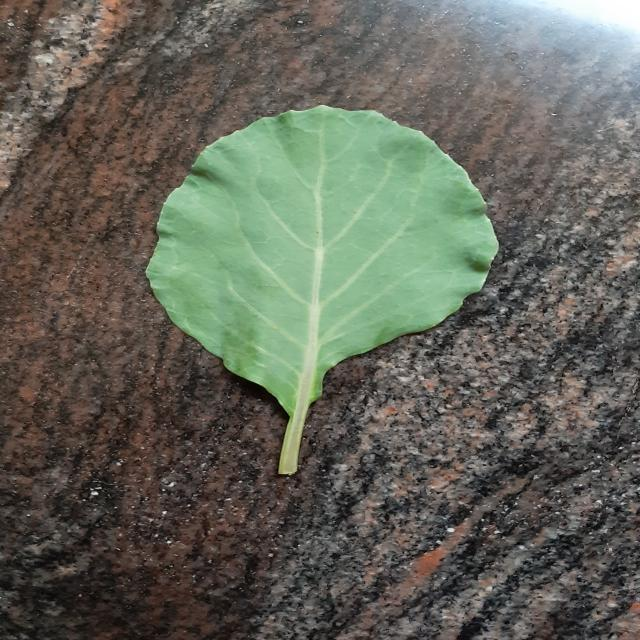Kohlrabi: (147, 106, 498, 475)
